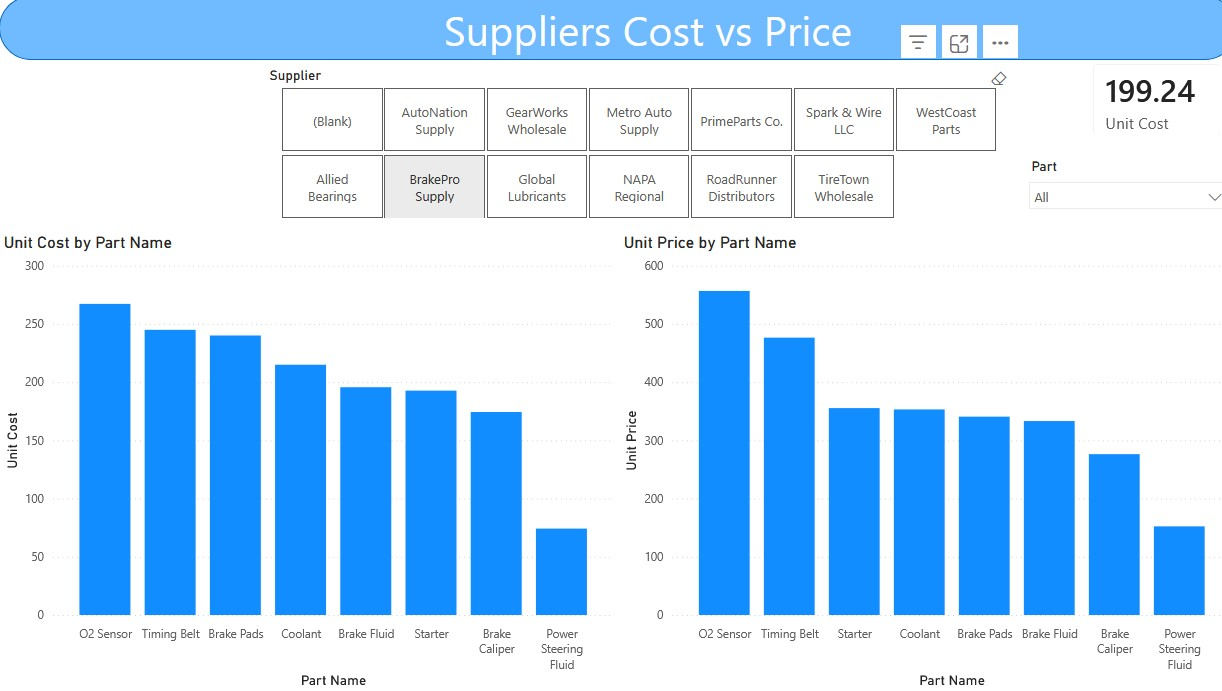

Layout of this report page (visuals, bound fields, positions):
{"tool":"powerbi","page":{"name":"Suppliers Cost Vs Price","canvas":[1280,720],"ordinal":4},"visuals":[{"type":"columnChart","fields":{"Category":["Parts.part_name"],"Y":["Avg(Parts.unit_cost)"]},"box":[0,245.7,640.6,474.3],"z":0},{"type":"slicer","fields":{"Values":["Suppliers.supplier_name"]},"box":[266.5,66.1,788,170.1],"z":1},{"type":"columnChart","fields":{"Category":["Parts.part_name"],"Y":["Avg(Parts.unit_price)"]},"box":[640.6,245.7,638.7,474.3],"z":2},{"type":"cardVisual","fields":{"Data":["Avg(Parts.unit_cost)"]},"box":[1113.1,52.9,166.3,107.7],"z":4},{"type":"slicer","fields":{"Values":["Parts.part_name"]},"box":[1054.5,160.6,224.9,75.6],"z":5},{"type":"shape","box":[0,0,1279.4,66.1],"z":6},{"type":"textbox","box":[173.9,0,994,66.1],"z":7}]}

Visuals, with their boxes in screenshot pixels (x1, y1, x2, y2), scaled from the page's 1280x720 canvas onto the 1222x691 screenshot:
columnChart - Parts.part_name x Avg(Parts.unit_cost): rect(0, 236, 612, 690)
slicer - Suppliers.supplier_name: rect(254, 63, 1007, 227)
columnChart - Parts.part_name x Avg(Parts.unit_price): rect(612, 236, 1221, 690)
cardVisual - Avg(Parts.unit_cost): rect(1063, 51, 1221, 154)
slicer - Parts.part_name: rect(1007, 154, 1221, 227)
shape: rect(0, 0, 1221, 63)
textbox: rect(166, 0, 1115, 63)
